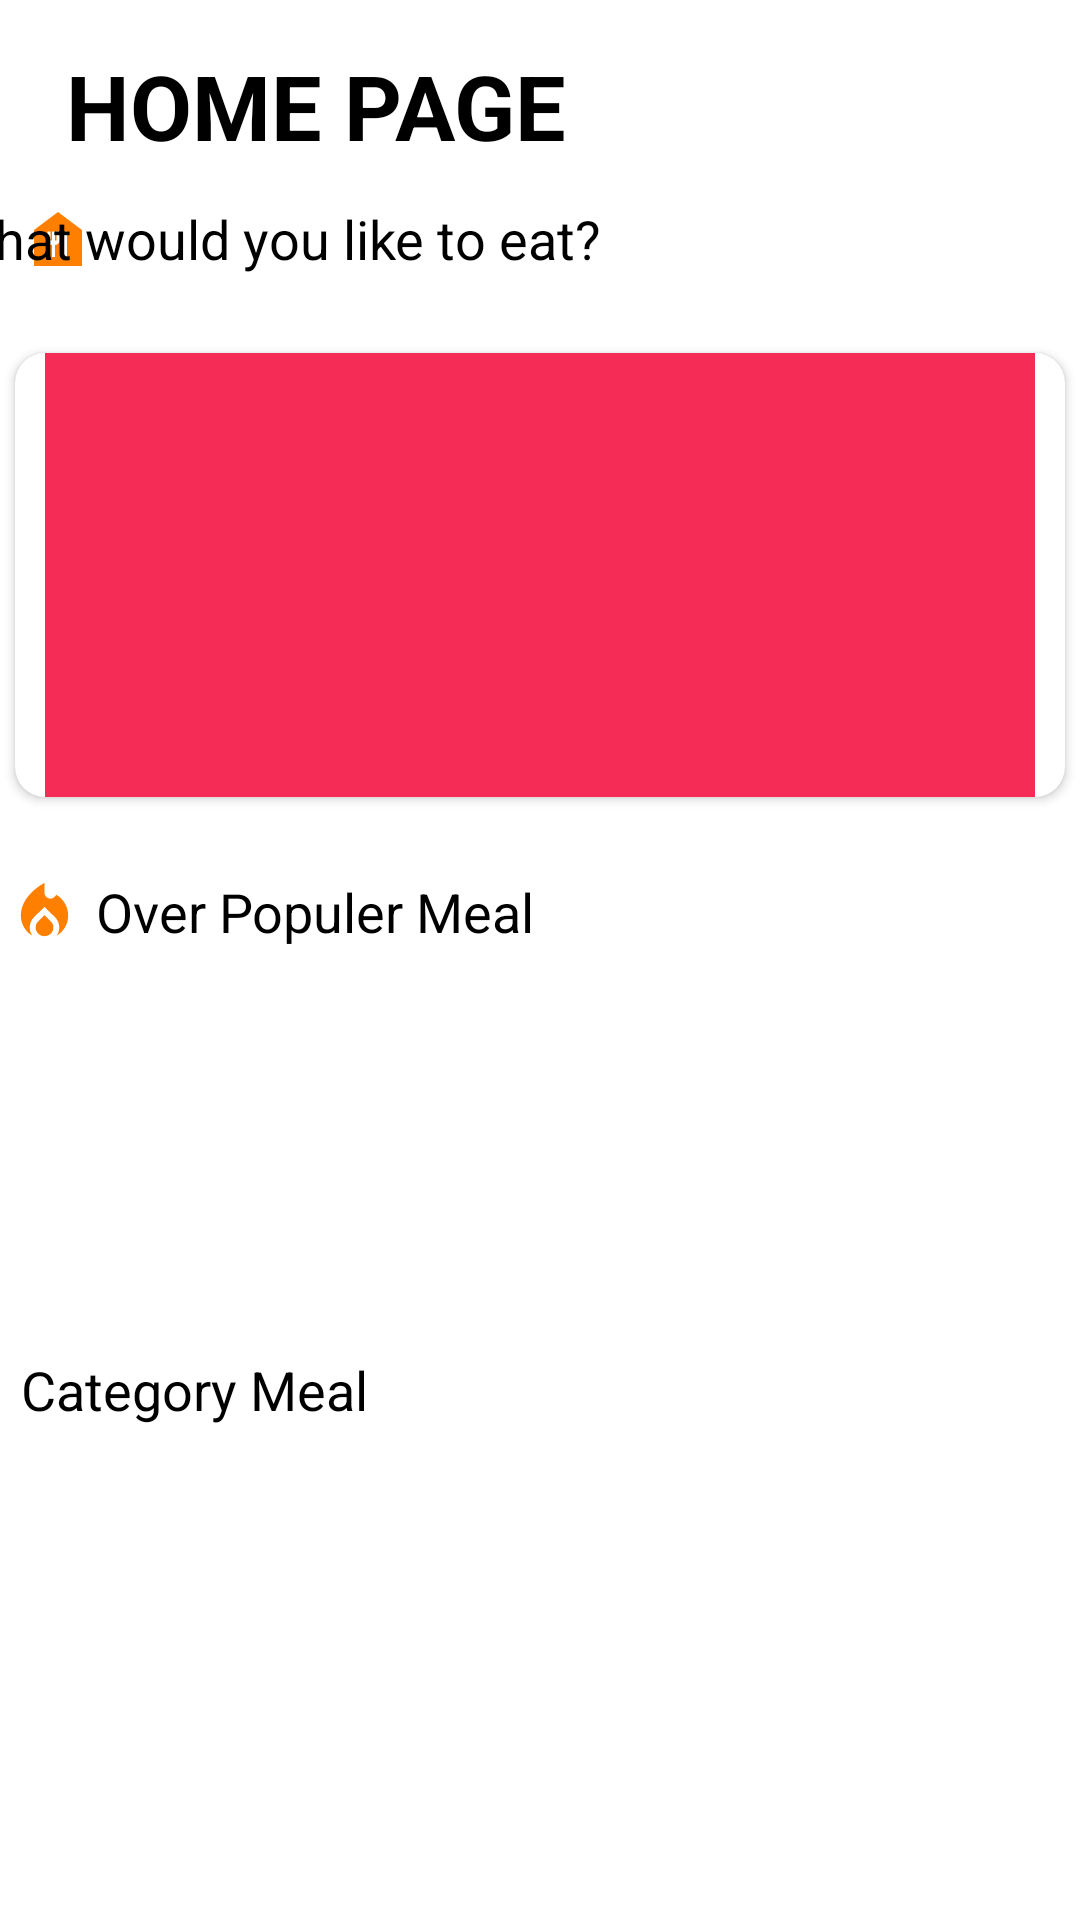

Where to tap for icons on this 1080×1920 app screen, as [x,y]:
local fire department: [44,910]
